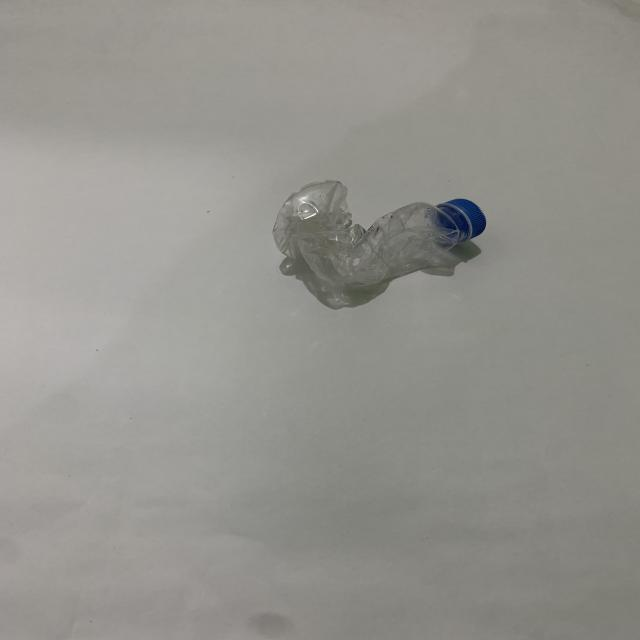bottle: (261, 172, 507, 313)
